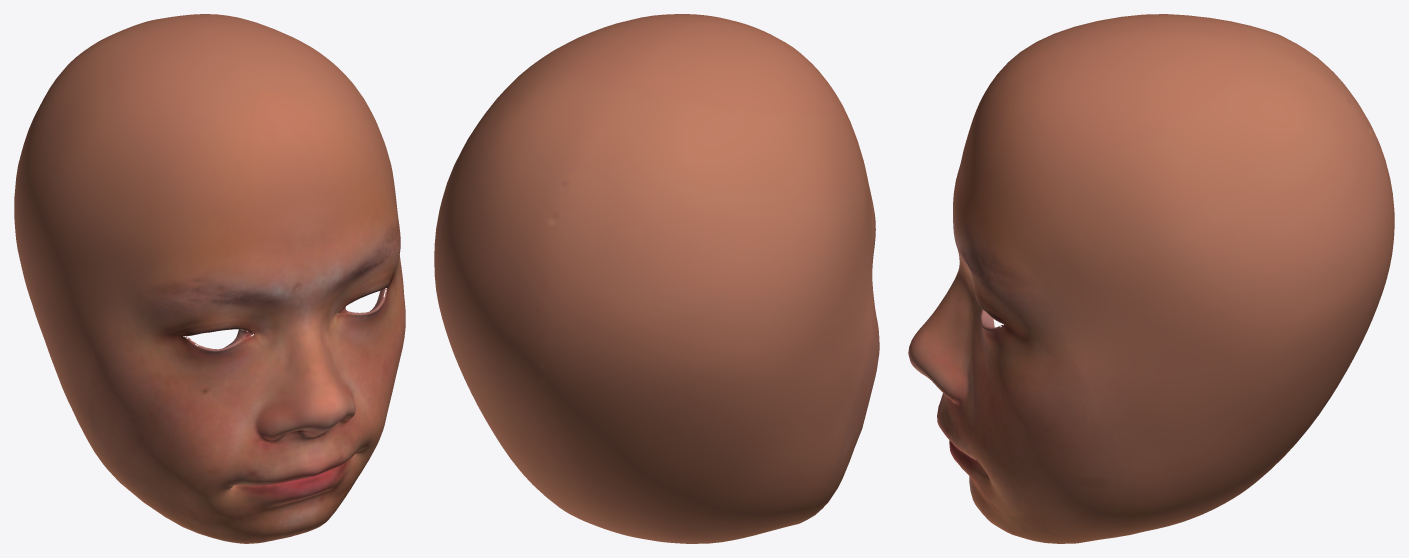
File: avatar_good.glb
The picture shows the model from 3 angles, left to right: view 1: azimuth 30°, elevation 25°; view 2: azimuth 150°, elevation 25°; view 3: azimuth 270°, elevation 25°; orthographic projection. The views are drawn at different scales.
Parts seen in each view (by area): view 1: Surf0; view 2: Surf0; view 3: Surf0.
Part boxes in pixels (x1,y1,x2,y2): Surf0: (14, 14, 405, 543); Surf0: (434, 14, 879, 543); Surf0: (908, 14, 1394, 543).
Bounding box in the file's own units: 0.0172 × 0.0227 × 0.0207.
1 material, 1 textured.
